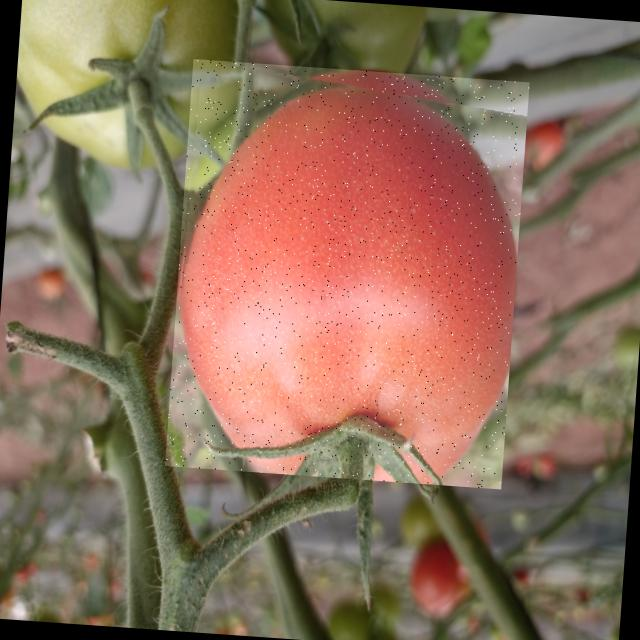Ripe Tomato: (165, 58, 530, 490)
